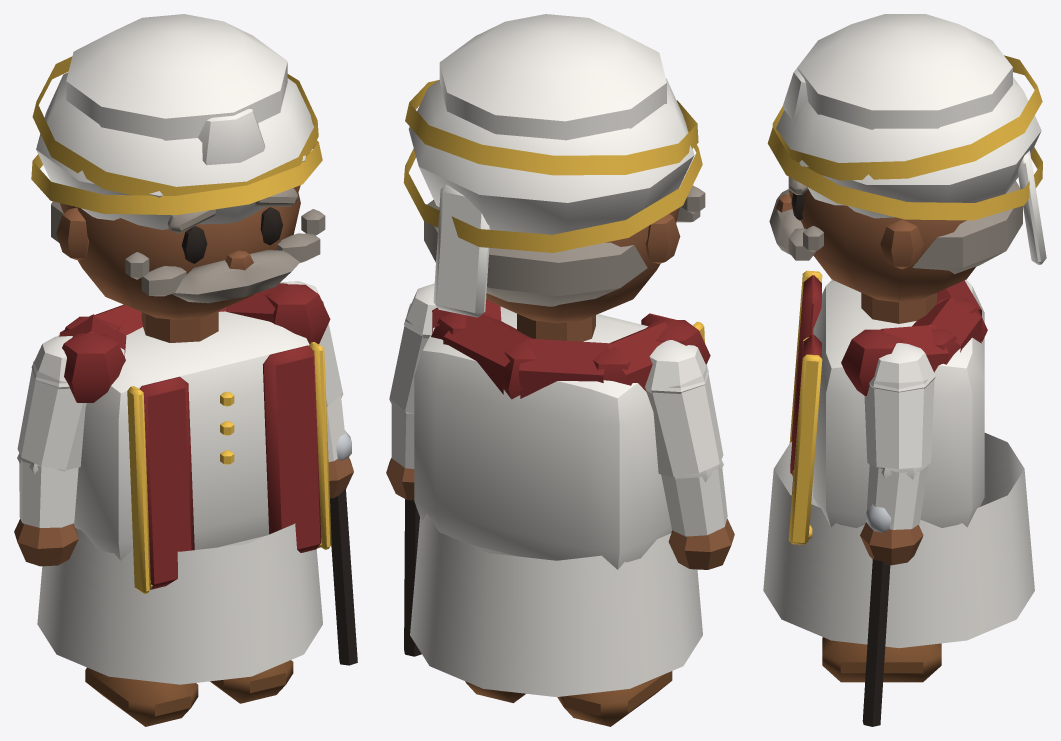
File: story_father.glb
3 views of the same model, side by side, from view 1: azimuth 30°, elevation 25°; view 2: azimuth 150°, elevation 25°; view 3: azimuth 270°, elevation 25° (orthographic). The views are drawn at different scales.
Visible parts, largest first — view 1: body, head, arm_r, leg_r, stick, arm_l, leg_l; view 2: body, head, arm_r, arm_l, leg_r, stick; view 3: body, head, arm_l, leg_l, stick.
Part boxes in pixels (left/top/right/bottom): body: left=37, top=283, right=331, bottom=684; head: left=31, top=14, right=325, bottom=320; arm_r: left=14, top=336, right=86, bottom=566; leg_r: left=85, top=667, right=198, bottom=726; stick: left=330, top=430, right=357, bottom=665; arm_l: left=280, top=281, right=353, bottom=498; leg_l: left=210, top=660, right=293, bottom=703; body: left=410, top=300, right=710, bottom=696; head: left=403, top=14, right=705, bottom=323; arm_r: left=645, top=340, right=734, bottom=569; arm_l: left=386, top=283, right=436, bottom=500; leg_r: left=557, top=671, right=672, bottom=726; stick: left=404, top=499, right=421, bottom=656; body: left=763, top=270, right=1034, bottom=648; head: left=767, top=14, right=1046, bottom=302; arm_l: left=860, top=343, right=935, bottom=565; leg_l: left=822, top=637, right=941, bottom=682; stick: left=862, top=504, right=891, bottom=726.
Size of the model in its own units: 0.6698 by 1.26 by 0.5187.
Materials: 1 (1 with a texture image).
